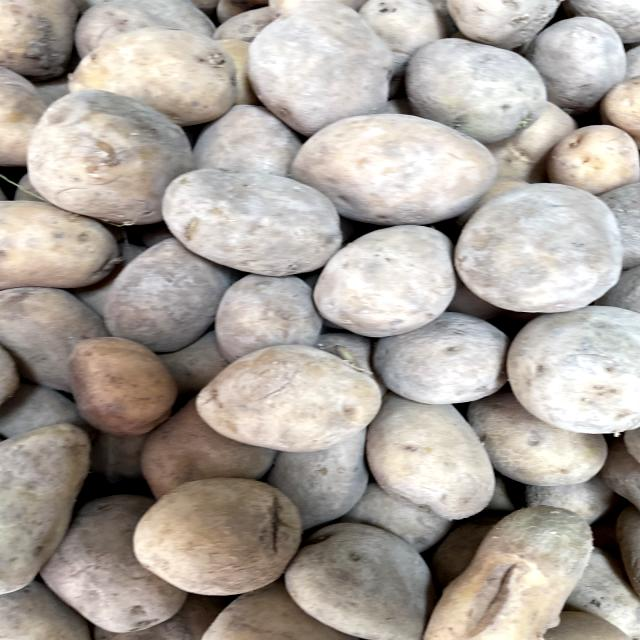potato: (290, 105, 506, 228), (452, 172, 627, 319), (124, 465, 315, 599), (152, 157, 349, 280), (183, 337, 392, 452), (367, 383, 502, 524), (58, 328, 190, 442)
